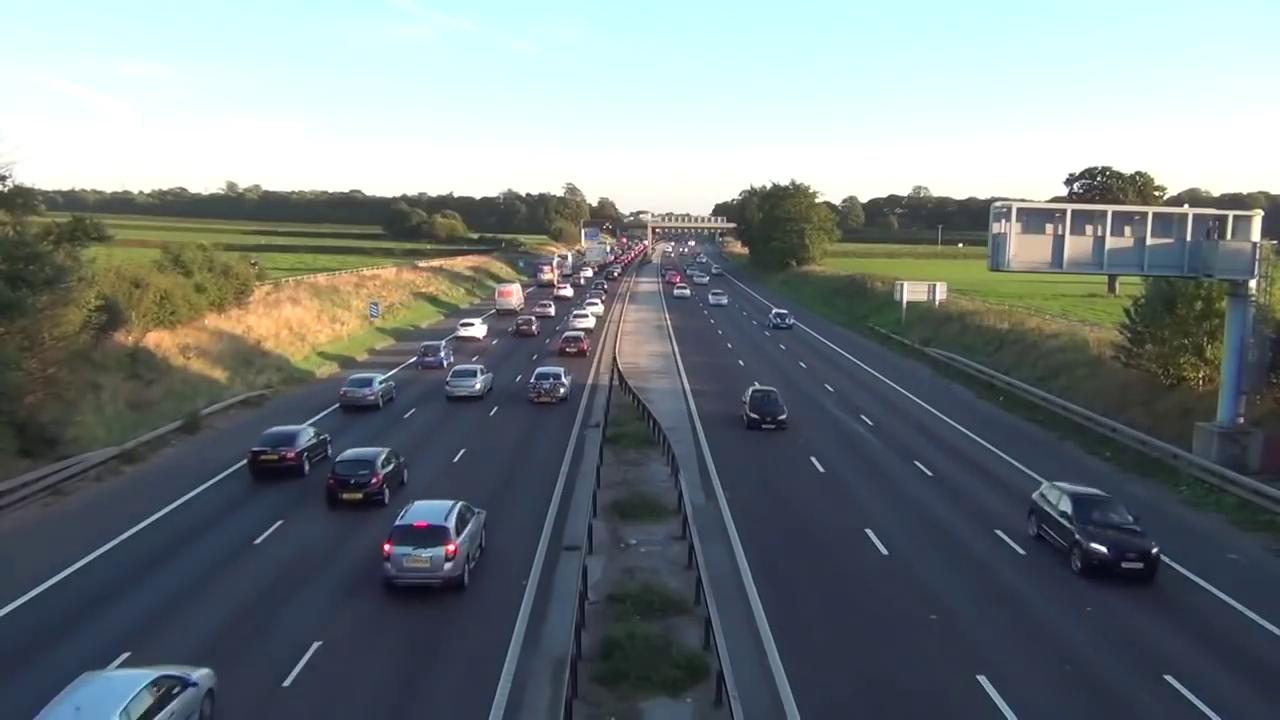car: (1026, 481, 1167, 582), (28, 662, 219, 720), (381, 499, 492, 590), (324, 445, 412, 505), (243, 424, 333, 473), (740, 385, 790, 432), (336, 374, 387, 409), (445, 364, 492, 400), (525, 367, 569, 404), (415, 341, 456, 367), (453, 317, 490, 340), (496, 284, 525, 311), (556, 333, 587, 356), (767, 309, 796, 328), (568, 310, 597, 329), (514, 317, 539, 338), (529, 300, 557, 316), (705, 292, 729, 307), (672, 283, 691, 297)
